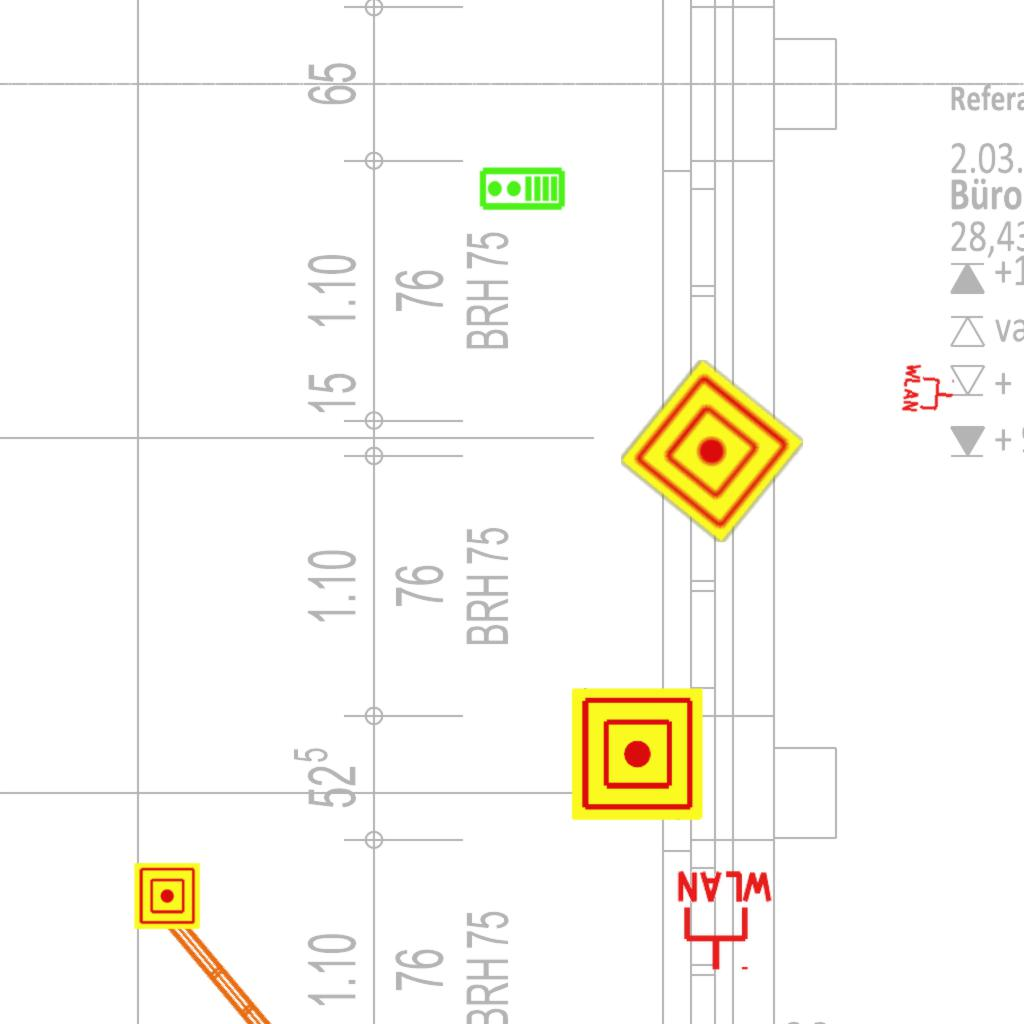Ambulanz_Pendelleuchte_LED: (132, 860, 425, 1024)
Gegensprechanlage_mit_Video: (478, 166, 566, 213)
NAM-Nichtautomatischer_Melder: (619, 358, 805, 544), (571, 688, 703, 820), (134, 863, 200, 929)
WLAN: (673, 869, 777, 974), (900, 360, 958, 418)
